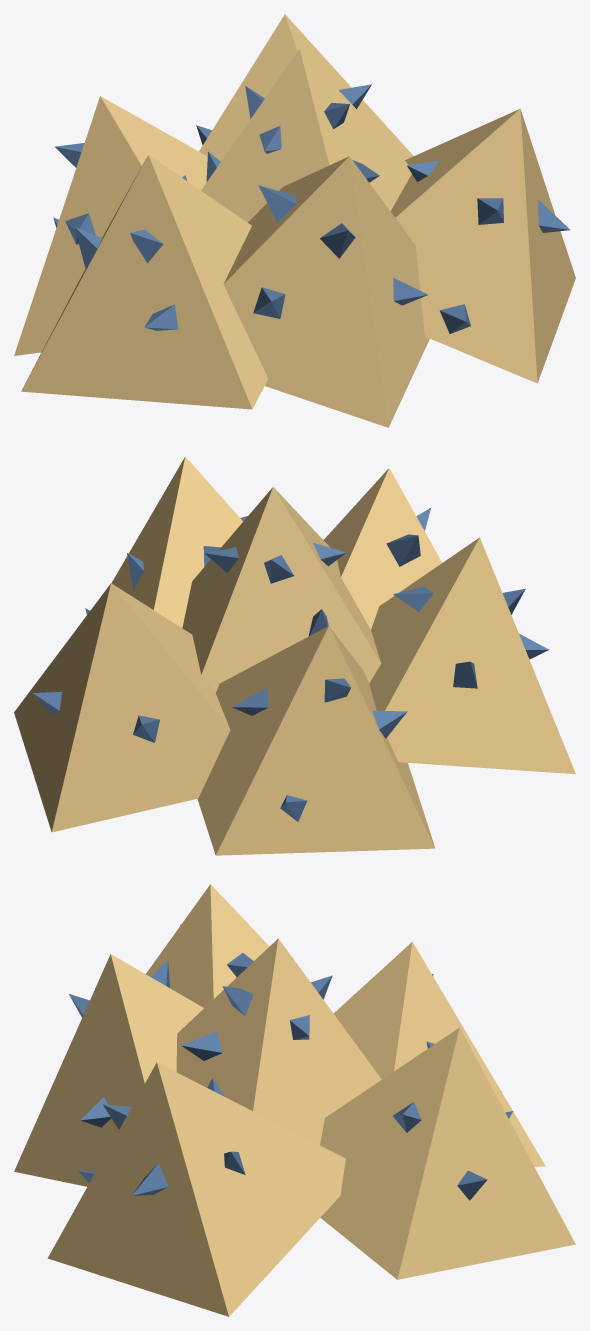
File: Anacia Bush.fbx
3 renders of one model, top to bottom at view 1: azimuth 30°, elevation 25°; view 2: azimuth 150°, elevation 25°; view 3: azimuth 270°, elevation 25°, orthographic. The views are drawn at different scales.
Visible parts, largest first — view 1: Anacia Bush; view 2: Anacia Bush; view 3: Anacia Bush.
Part boxes in pixels (bbox=[...]): Anacia Bush: bbox=[14, 14, 575, 427]; Anacia Bush: bbox=[14, 456, 575, 855]; Anacia Bush: bbox=[14, 884, 575, 1316].
Size of the model in its own units: 143 by 71.97 by 131.
